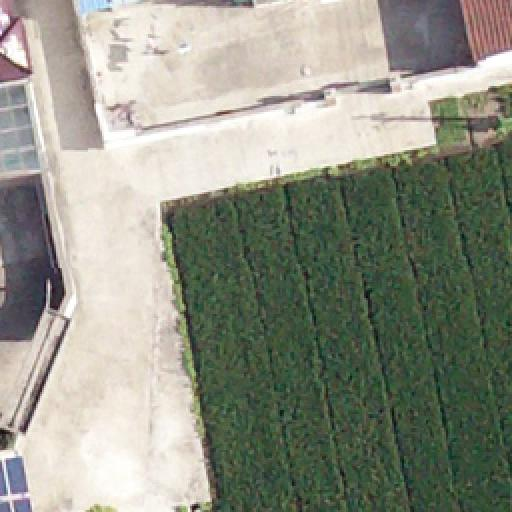solar-panel: (0, 454, 32, 510)
